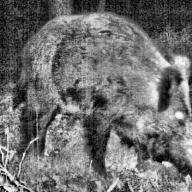boar: (22, 5, 192, 179)
